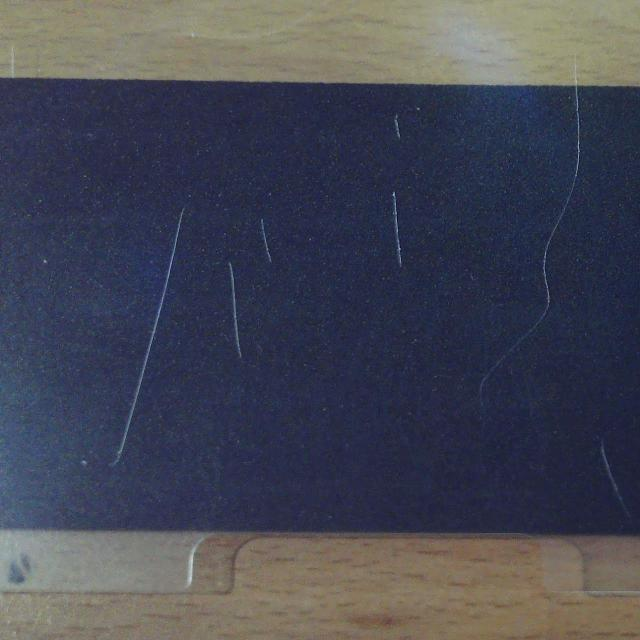defect: (478, 80, 582, 404), (106, 208, 189, 475), (599, 438, 633, 524), (228, 264, 244, 362), (387, 192, 406, 269), (256, 221, 278, 263), (391, 115, 406, 141)
